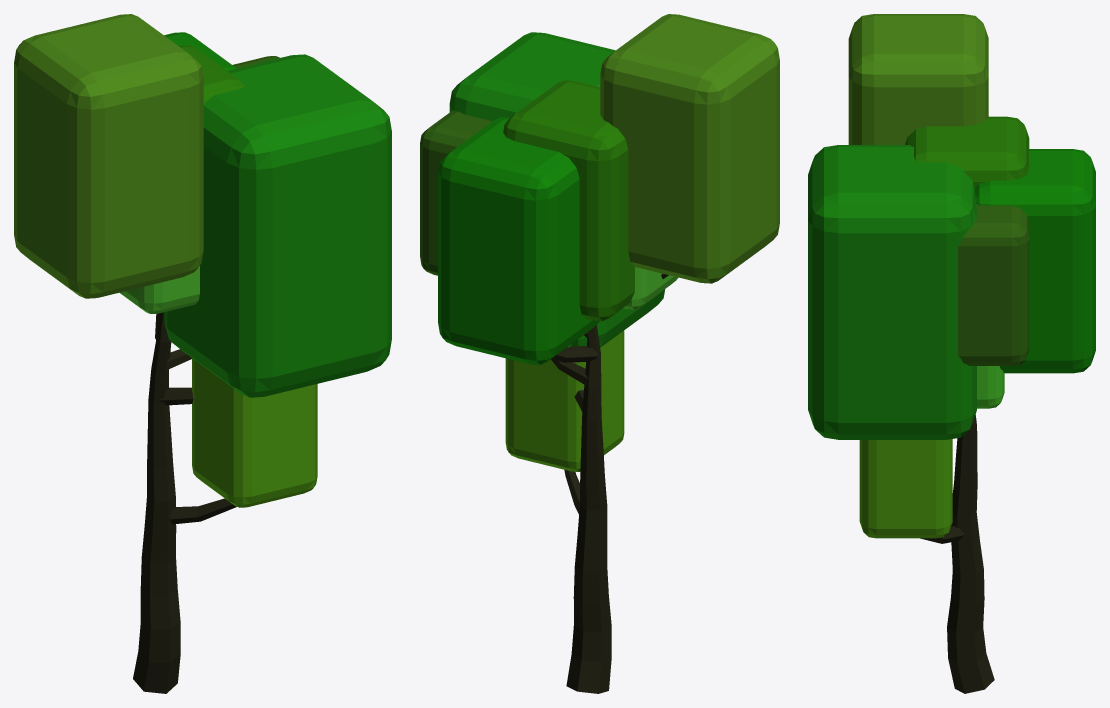
File: Tree5_V2.fbx
3 renders of one model, left to right at view 1: azimuth 30°, elevation 25°; view 2: azimuth 150°, elevation 25°; view 3: azimuth 270°, elevation 25°, orthographic. The views are drawn at different scales.
Parts seen in each view (by area): view 1: OUT_TREE; view 2: OUT_TREE; view 3: OUT_TREE.
Boxes of the visible parts, x1,y1,x2,y2 form: OUT_TREE: (14,14,391,693); OUT_TREE: (420,14,779,693); OUT_TREE: (808,14,1095,693).
Bounding box in the file's own units: 0.7694 × 1.66 × 0.7005.
